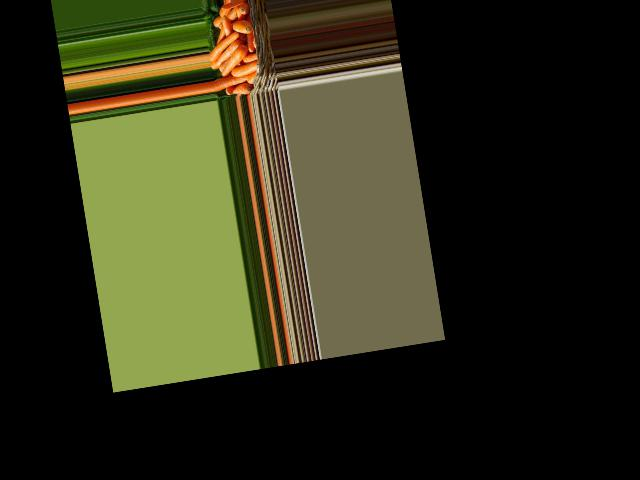carrot: (237, 3, 250, 14)
